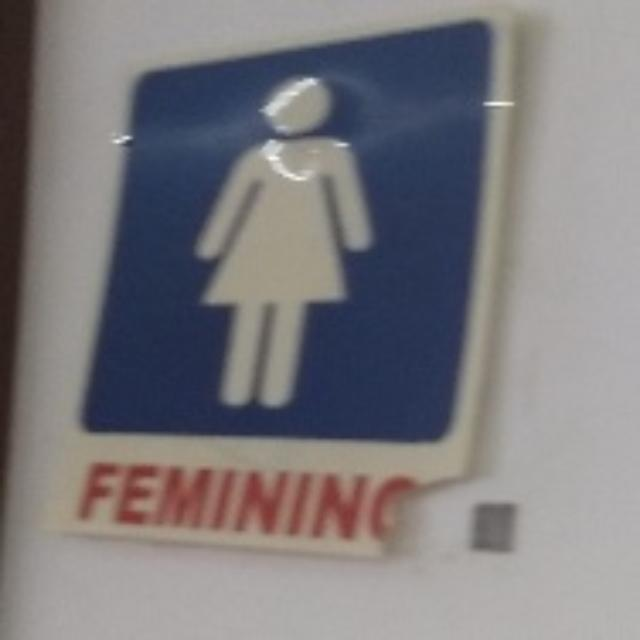womens_restroom: (51, 10, 511, 551)
